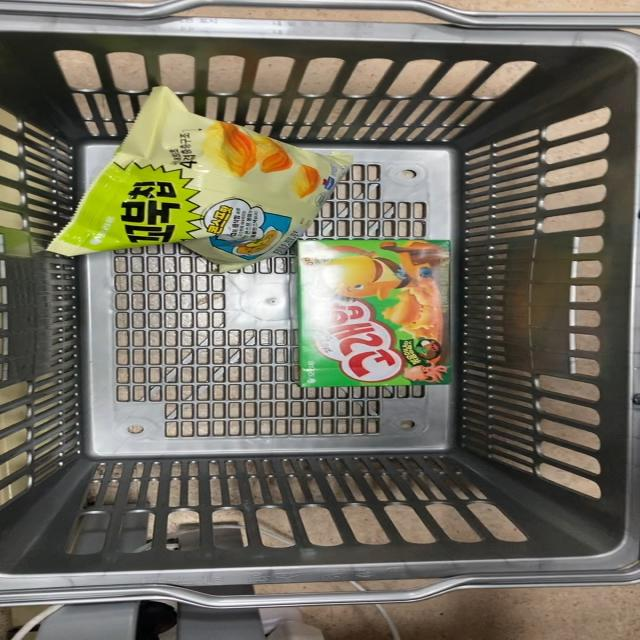ggobukchip: (34, 89, 312, 264)
goraebob: (288, 237, 466, 391)
